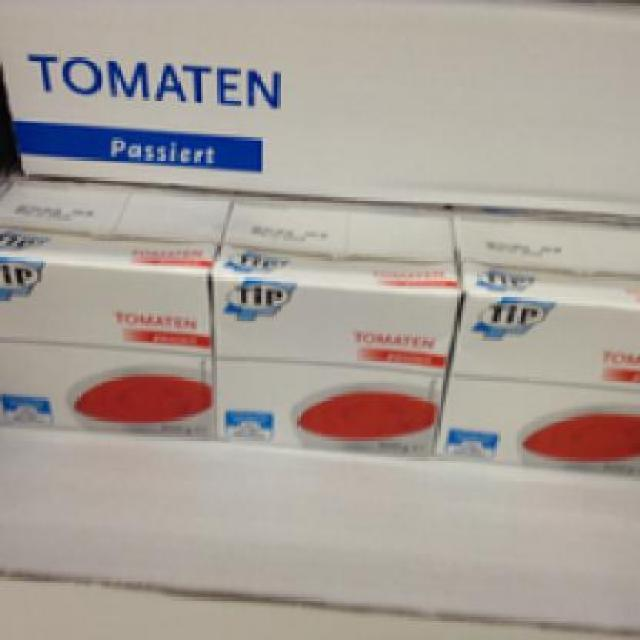Tomato Sauce: (202, 195, 458, 454), (0, 179, 232, 438), (425, 208, 638, 474)
